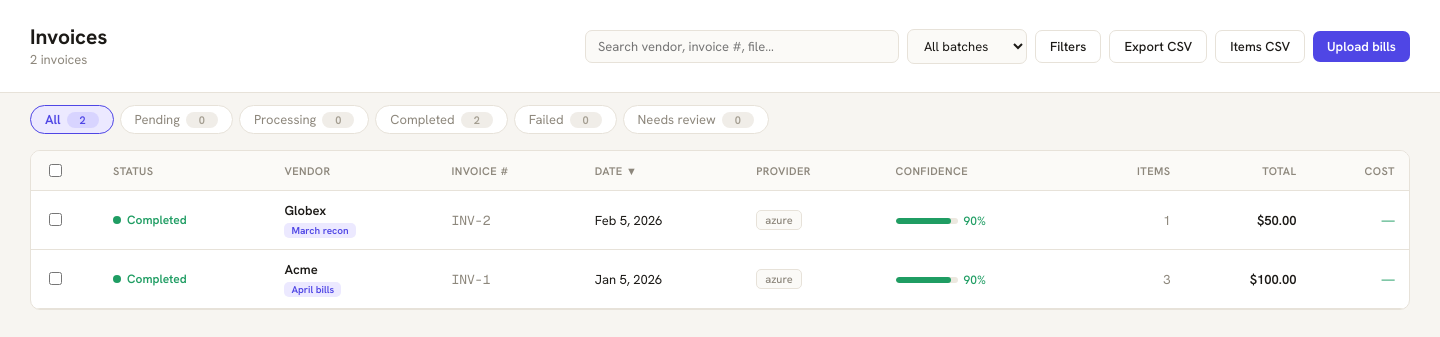
filters the table to the selected batch
Check: the text "Acme" is shown, box x1=284 y1=261 x2=318 y2=278
Check: the text "Globex" is shown, box x1=284 y1=202 x2=326 y2=219
Step 1. Select "April bills" in the dropdown named "Filter by batch" → (967, 46), box x1=907 y1=29 x2=1027 y2=64
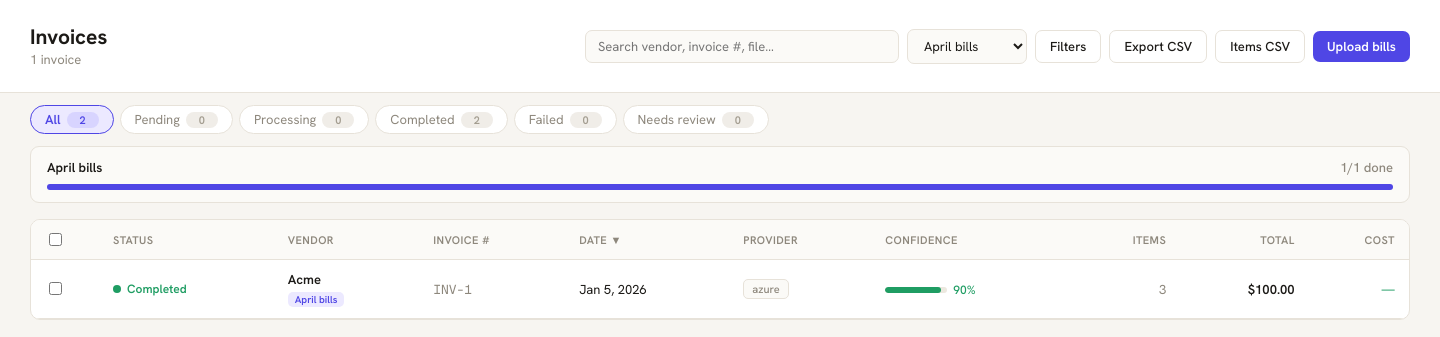
Check: the text "Acme" is shown, box x1=288 y1=271 x2=321 y2=288
Check: the text "Globex" is gone
